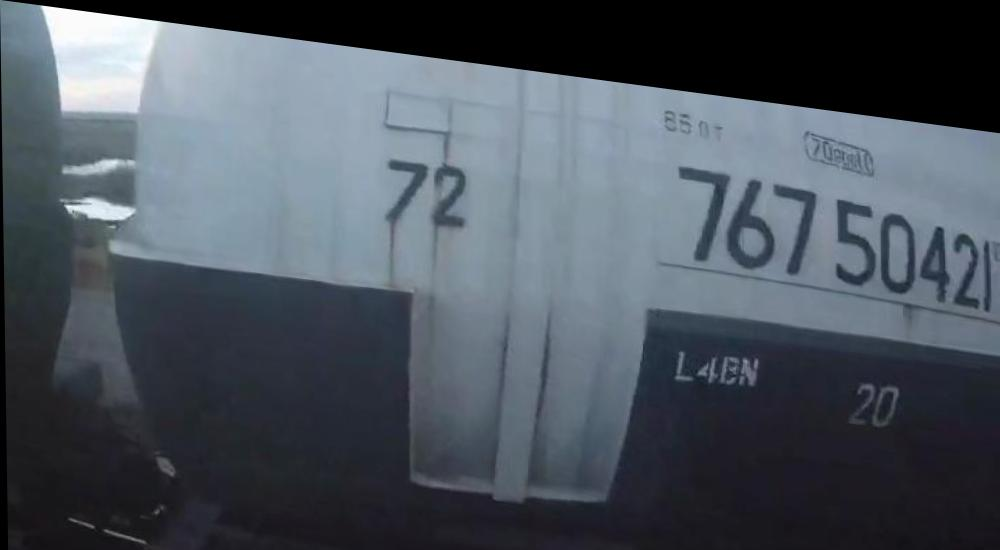Wagon-number: (677, 140, 1000, 290)
